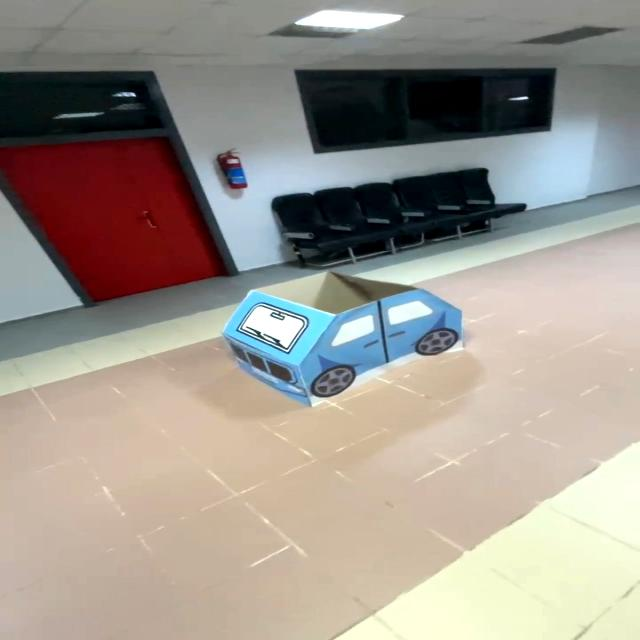blue_car: (204, 266, 485, 410)
